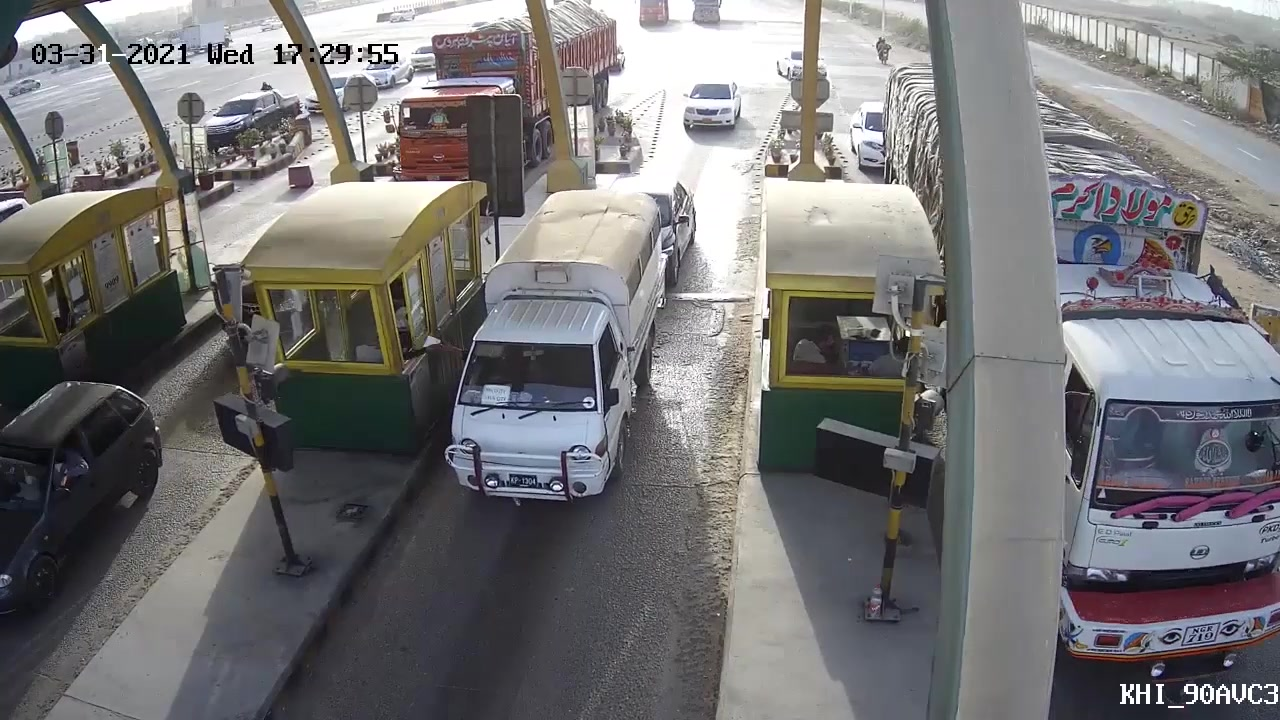F3: (455, 187, 668, 507)
